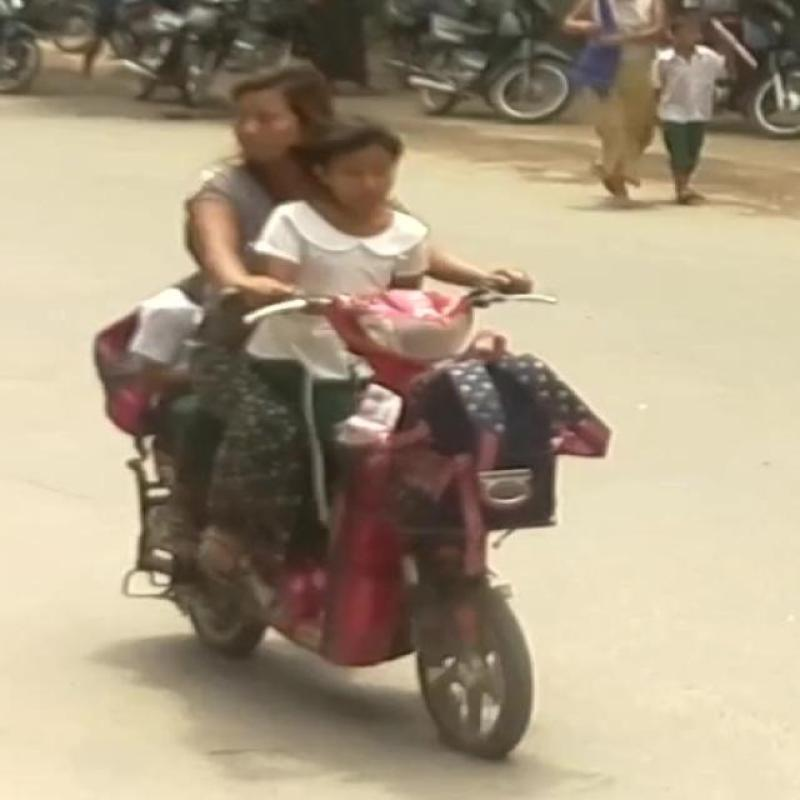nohelmet: (316, 122, 454, 218), (206, 56, 320, 163)
